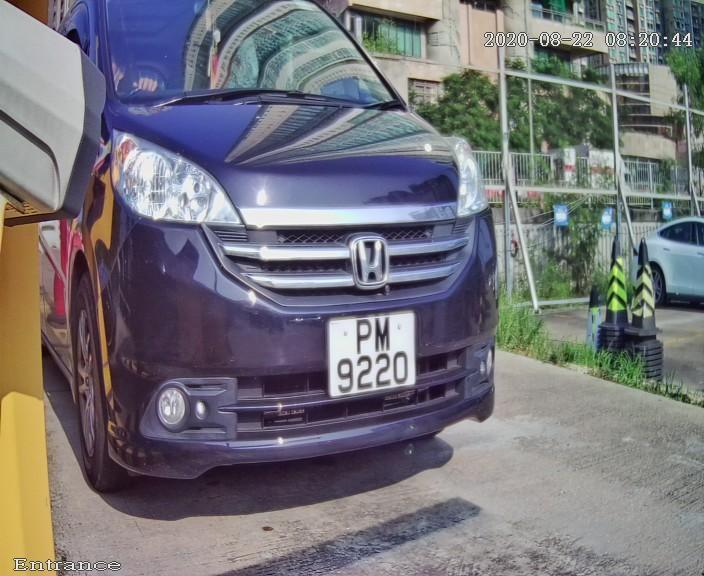Car: (13, 1, 538, 543)
License Plate: (318, 301, 425, 407)
